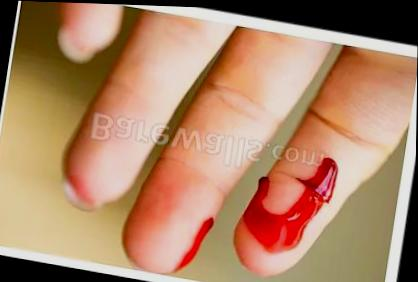Fire: (244, 156, 339, 252), (177, 216, 214, 269)
